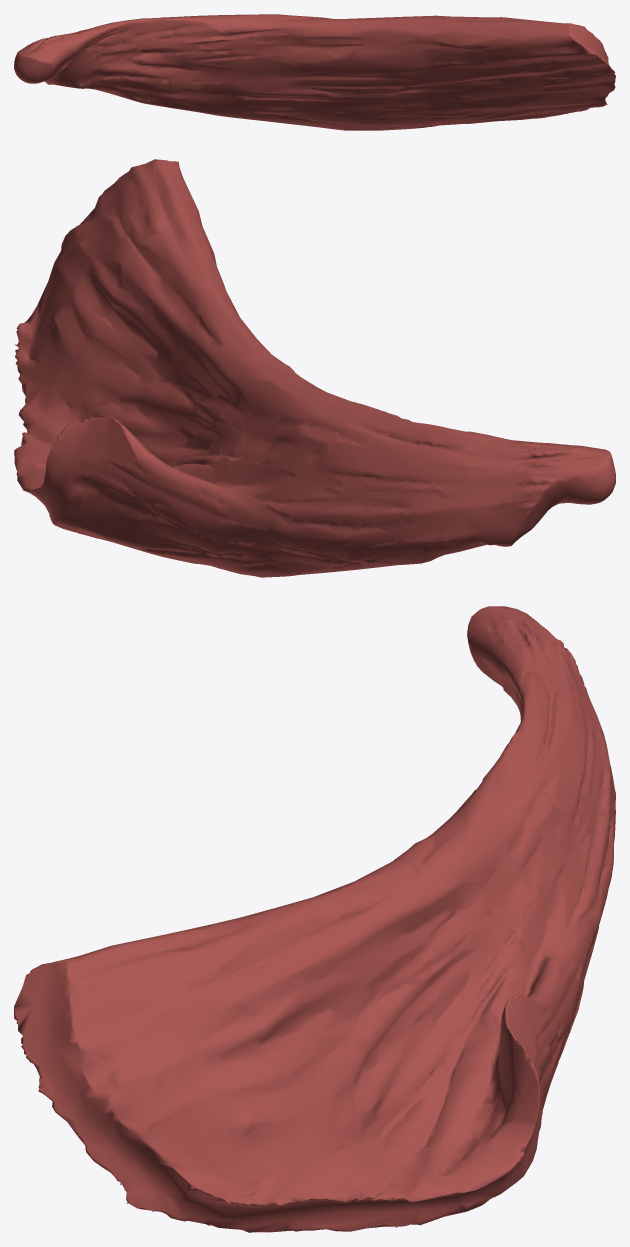
File: FMA22326.glb
3 renders of one model, top to bottom at view 1: azimuth 30°, elevation 25°; view 2: azimuth 150°, elevation 25°; view 3: azimuth 270°, elevation 25°, orthographic. The views are drawn at different scales.
Visible parts, largest first — view 1: FMA22326; view 2: FMA22326; view 3: FMA22326.
Part boxes in pixels (x1,y1,x2,y2): FMA22326: [14, 14, 615, 130]; FMA22326: [14, 159, 615, 577]; FMA22326: [14, 606, 615, 1232].
Size of the model in its own units: 0.0963 by 0.0299 by 0.0563.
